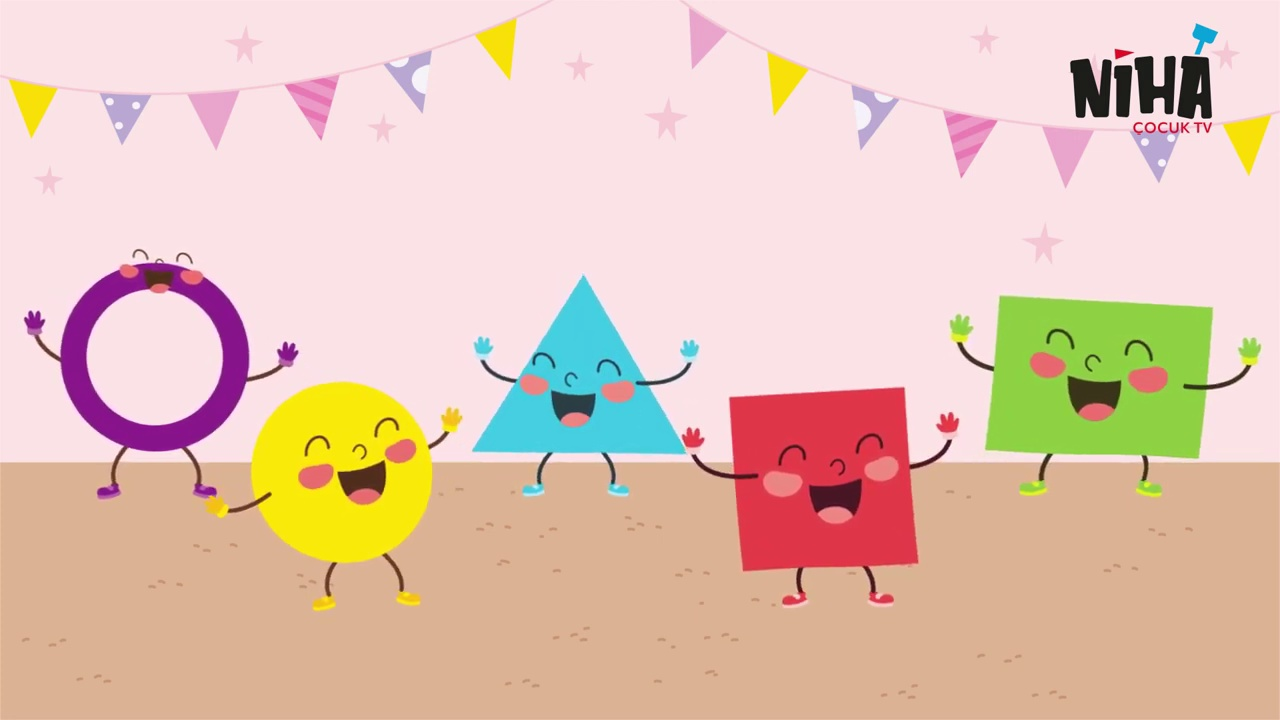daire: (57, 262, 251, 456), (253, 379, 437, 564)
dikdortgen: (993, 292, 1210, 457)
kare: (728, 394, 921, 570)
ucgen: (474, 274, 690, 457)
